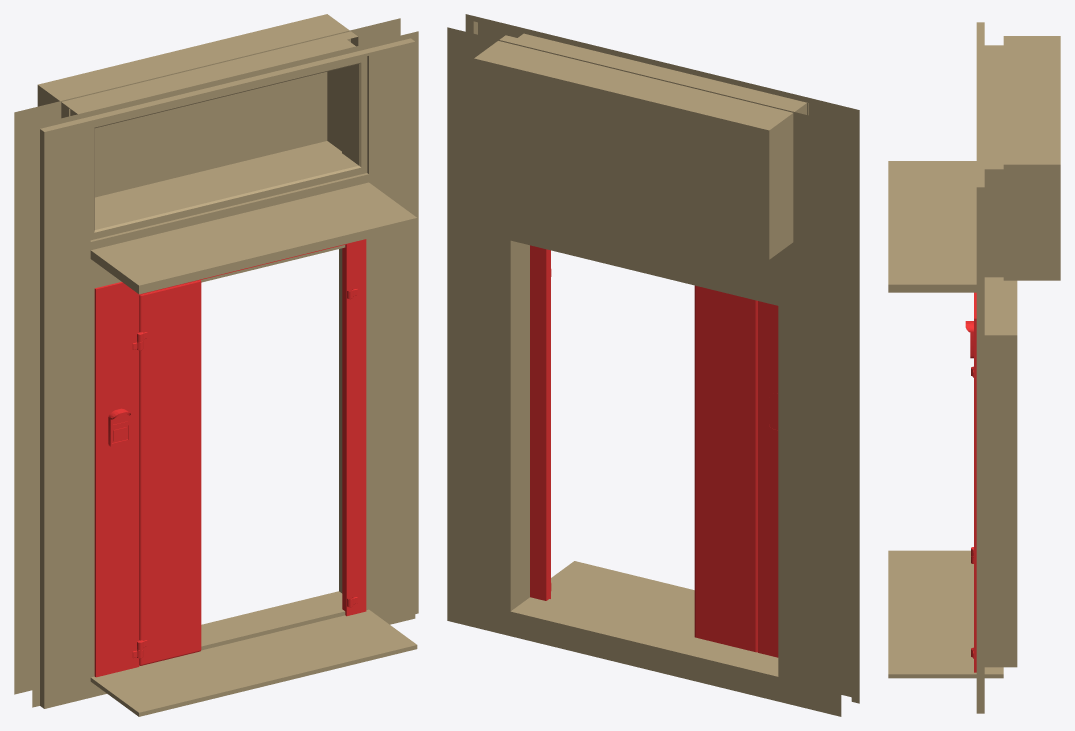
File: Panel_Door_01_001.fbx
The picture shows the model from 3 angles, left to right: view 1: azimuth 30°, elevation 25°; view 2: azimuth 150°, elevation 25°; view 3: azimuth 270°, elevation 25°; orthographic projection. The views are drawn at different scales.
Parts seen in each view (by area): view 1: Panel_Door_01_001; view 2: Panel_Door_01_001; view 3: Panel_Door_01_001.
Boxes of the visible parts, box(x1,y1,x2,y2) form: Panel_Door_01_001: box(14, 14, 418, 716); Panel_Door_01_001: box(447, 14, 859, 716); Panel_Door_01_001: box(888, 22, 1060, 713).
Bounding box in the file's own units: 250 × 360 × 106.
